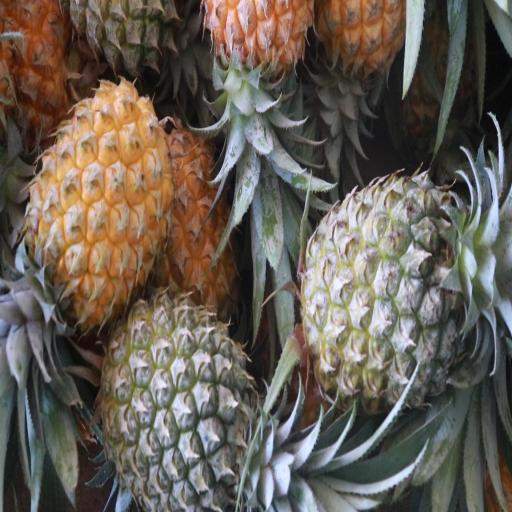Pineapple - v8 v1: (25, 80, 172, 325), (163, 127, 247, 323)
